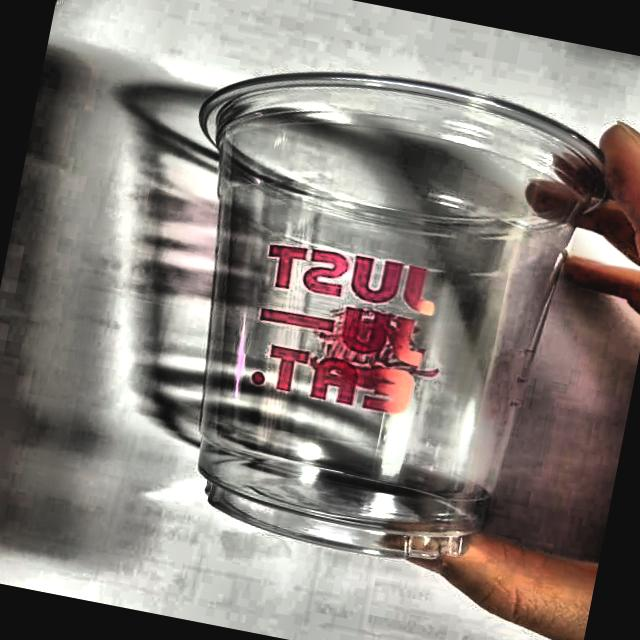plastic cup: (116, 33, 634, 592)
